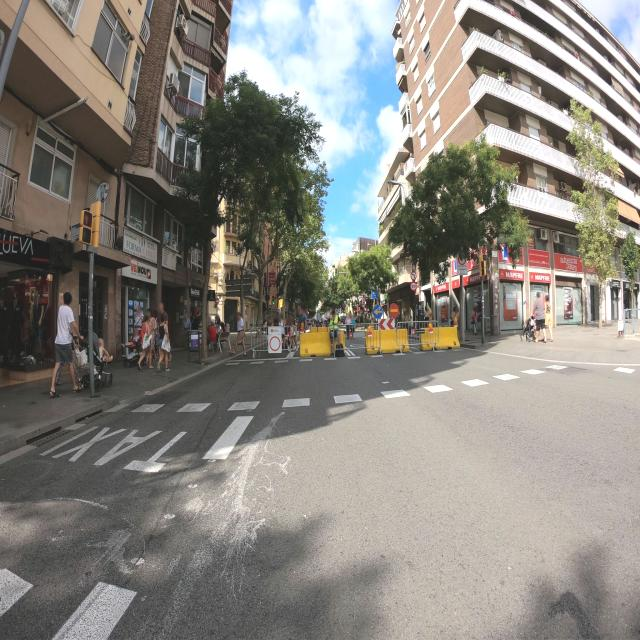bike: (74, 329, 114, 391)
